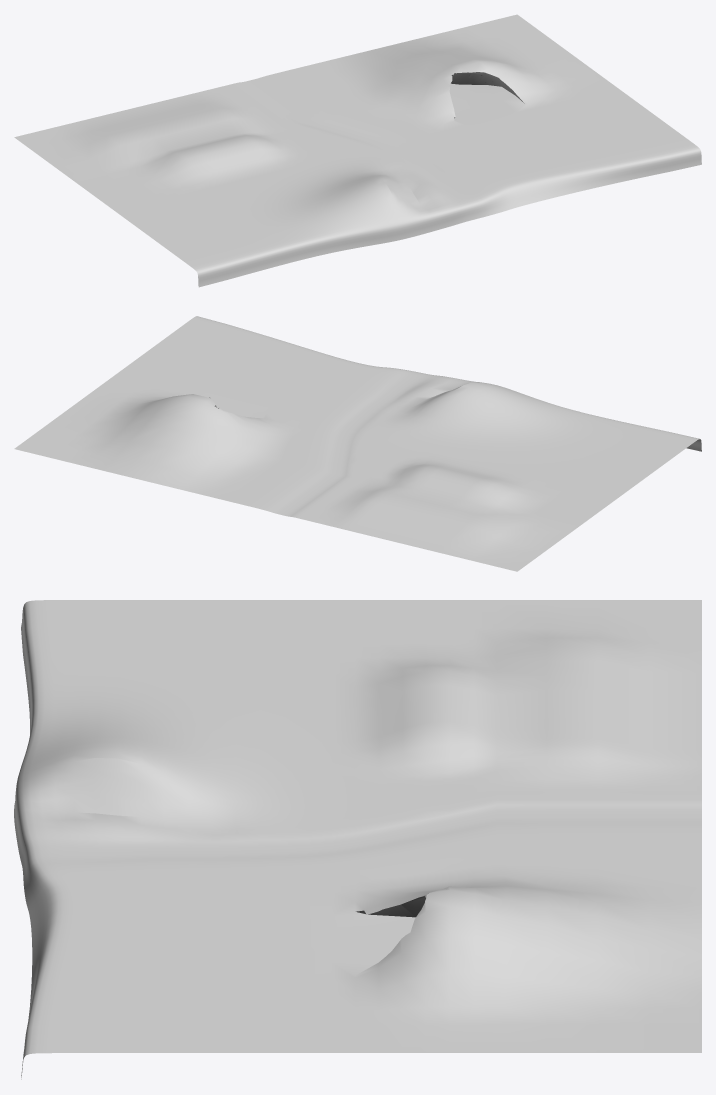
File: Zemin.fbx
The picture shows the model from 3 angles, top to bottom: view 1: azimuth 30°, elevation 25°; view 2: azimuth 150°, elevation 25°; view 3: azimuth 270°, elevation 25°; orthographic projection. The views are drawn at different scales.
Visible parts, largest first — view 1: Zemin; view 2: Zemin; view 3: Zemin.
Boxes of the visible parts, x1,y1,x2,y2 form: Zemin: [14, 14, 701, 287]; Zemin: [14, 316, 701, 571]; Zemin: [14, 600, 701, 1079].
Size of the model in its own units: 47.78 by 30.66 by 3.91.
